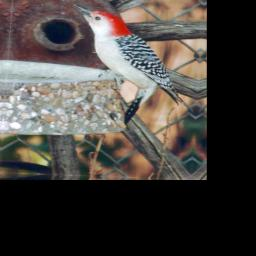Woodpecker: (59, 4, 202, 130)
